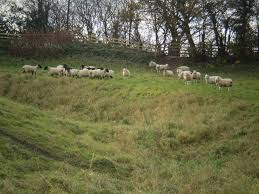sheep: (45, 64, 66, 79), (215, 75, 232, 93), (22, 63, 42, 77), (64, 62, 77, 78), (86, 67, 100, 79), (191, 67, 200, 83), (204, 73, 215, 86), (155, 63, 167, 73), (122, 67, 130, 77), (103, 67, 109, 76)
